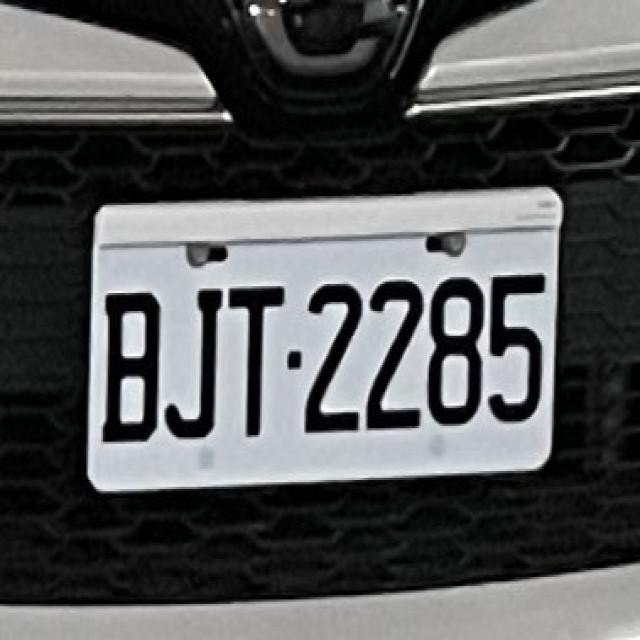license-plate: (78, 162, 570, 546)
